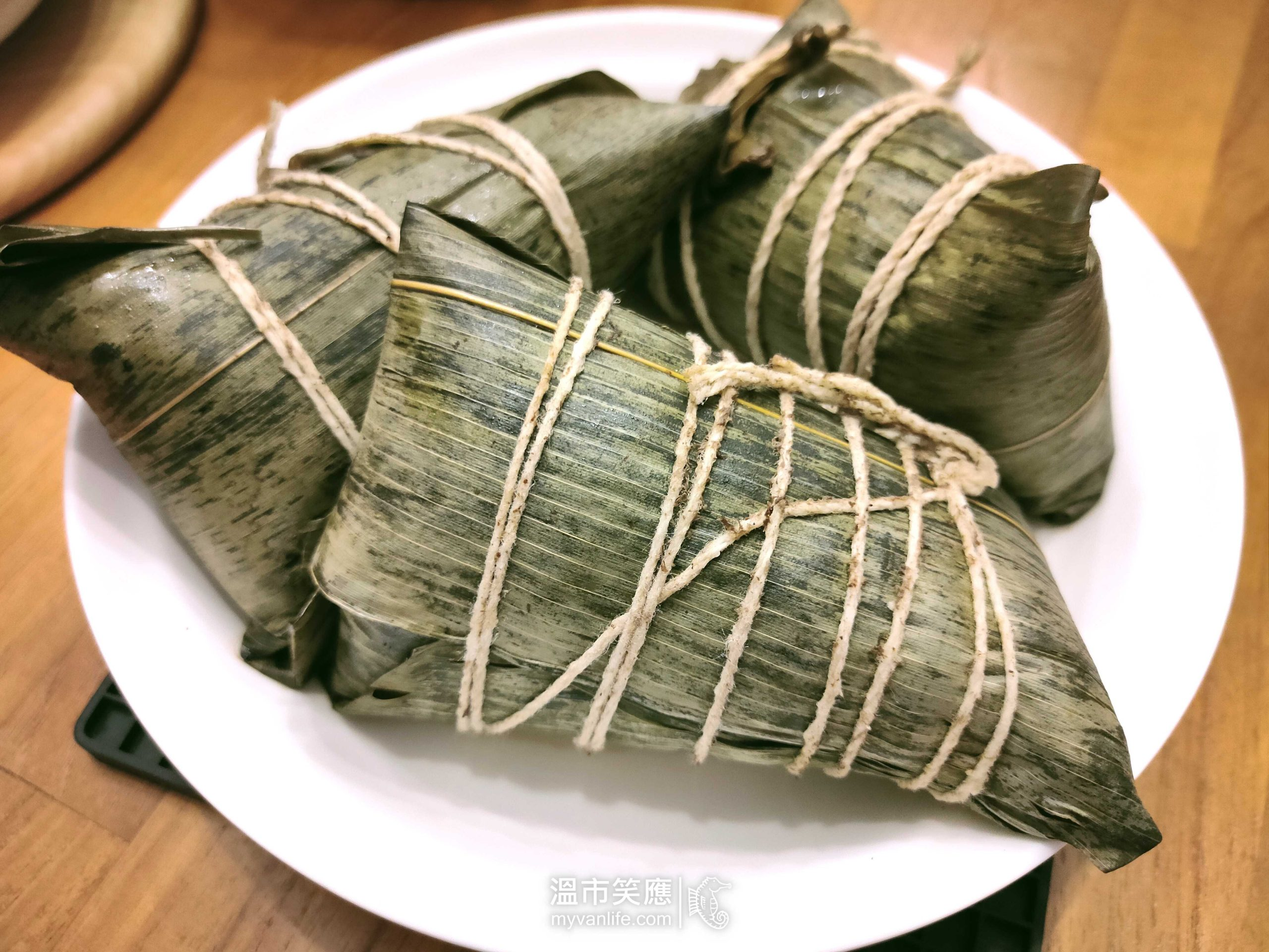zongzi: (315, 206, 1158, 867), (0, 71, 726, 686), (652, 0, 1112, 519)
